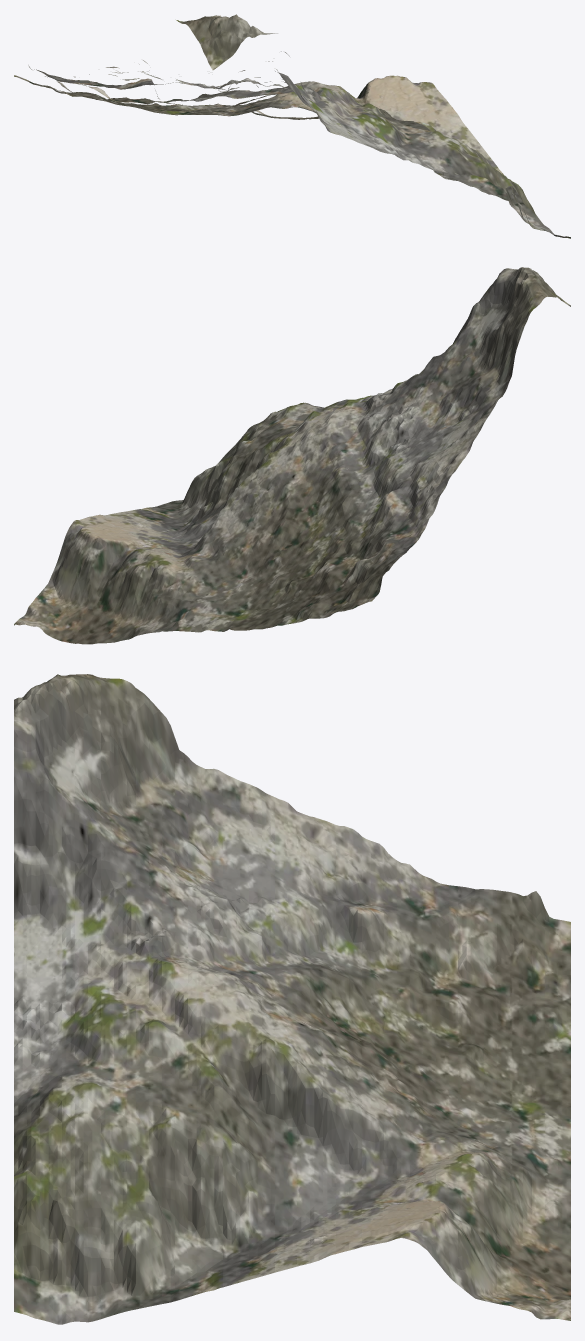
3 renders of one model, top to bottom at view 1: azimuth 30°, elevation 25°; view 2: azimuth 150°, elevation 25°; view 3: azimuth 270°, elevation 25°, orthographic. The views are drawn at different scales.
Size of the model in its own units: 250 by 204 by 241.
Materials: 1 (1 with a texture image).
